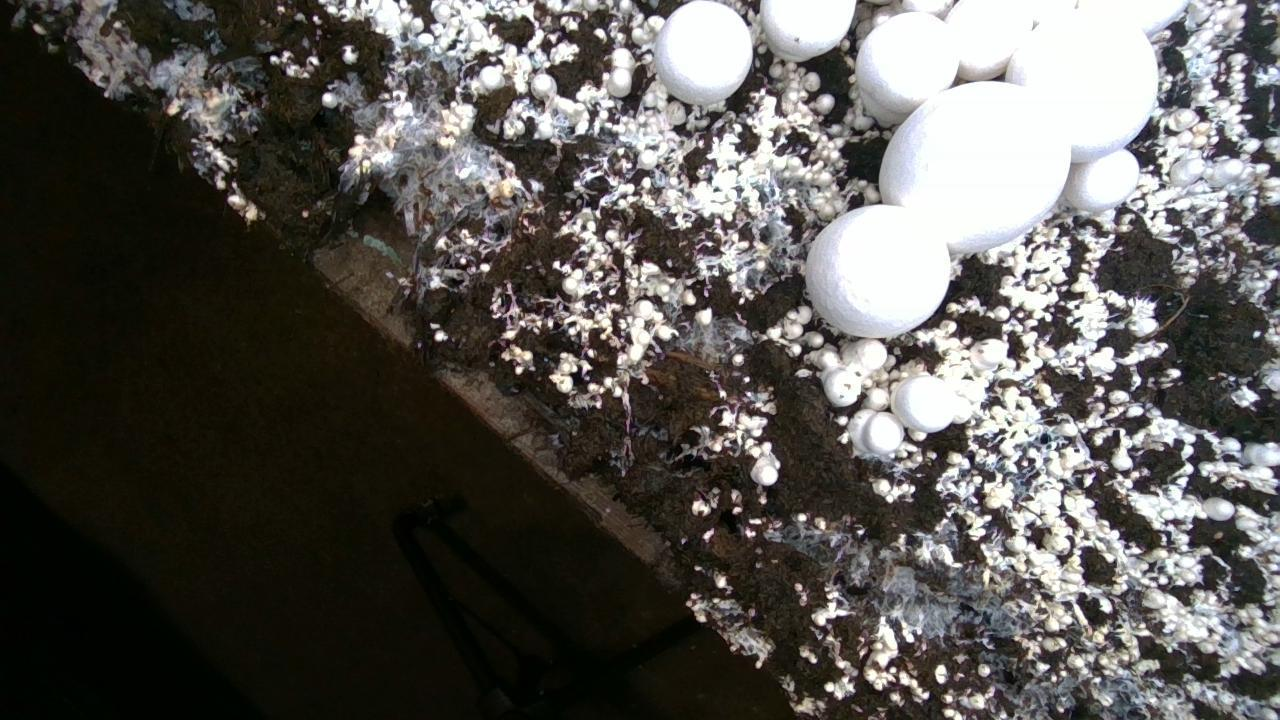WB: (880, 80, 1073, 252), (1006, 10, 1157, 162), (806, 205, 949, 337), (857, 10, 961, 122), (654, 0, 752, 104), (946, 0, 1032, 81), (760, 0, 855, 61), (1064, 149, 1138, 211), (891, 375, 957, 432)
